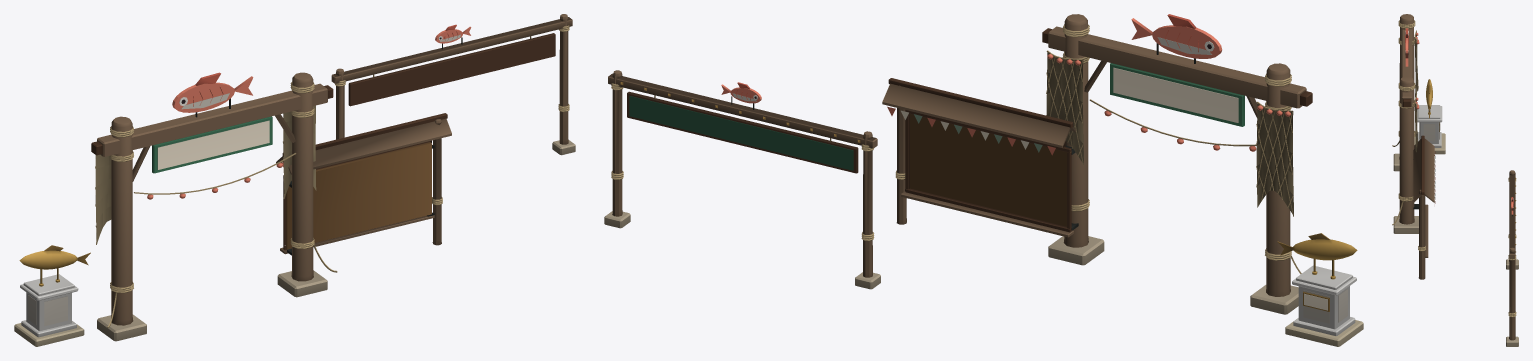
File: pav_lighthouse_arch.glb
The picture shows the model from 3 angles, left to right: view 1: azimuth 30°, elevation 25°; view 2: azimuth 150°, elevation 25°; view 3: azimuth 270°, elevation 25°; orthographic projection. The views are drawn at different scales.
Parts seen in each view (by area): view 1: static_lighthouse_arch; view 2: static_lighthouse_arch; view 3: static_lighthouse_arch.
Boxes of the visible parts, x1,y1,x2,y2 form: static_lighthouse_arch: (14,14,575,346); static_lighthouse_arch: (604,14,1363,346); static_lighthouse_arch: (1392,14,1518,346).
Size of the model in its own units: 15.56 by 5.68 by 3.94.
